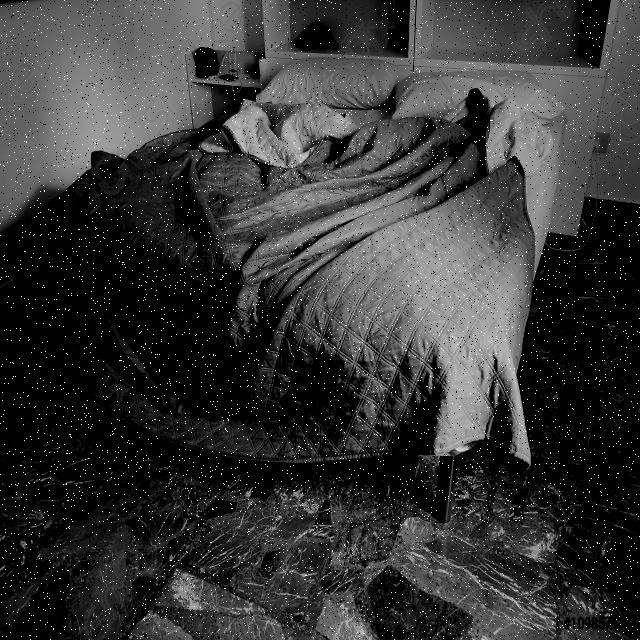bed: (55, 63, 578, 419)
